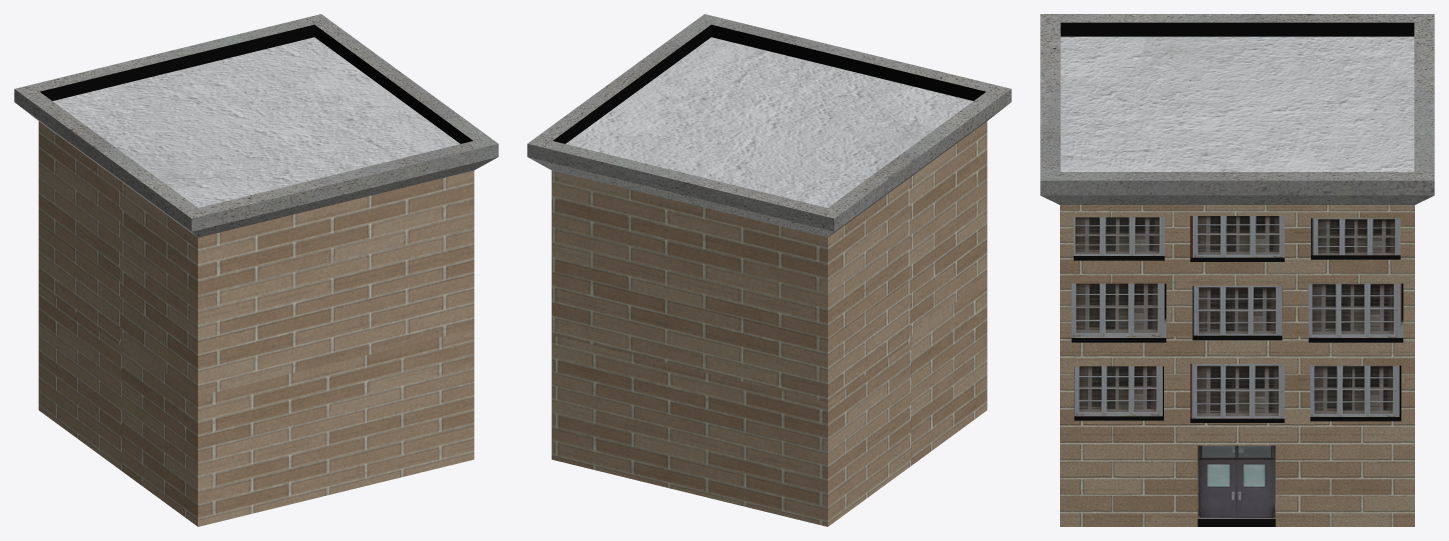
Rendered from simple building.obj.
3 views of the same model, side by side, from view 1: azimuth 30°, elevation 25°; view 2: azimuth 150°, elevation 25°; view 3: azimuth 270°, elevation 25° (orthographic). The views are drawn at different scales.
Visible parts, largest first — view 1: Cube.001; view 2: Cube.001; view 3: Cube.001.
Boxes of the visible parts, x1=… form: Cube.001: x1=14, y1=14, x2=498, y2=526; Cube.001: x1=527, y1=14, x2=1011, y2=526; Cube.001: x1=1040, y1=14, x2=1434, y2=526.
Size of the model in its own units: 2.22 by 2.2 by 2.22.
1 material, 1 textured.
